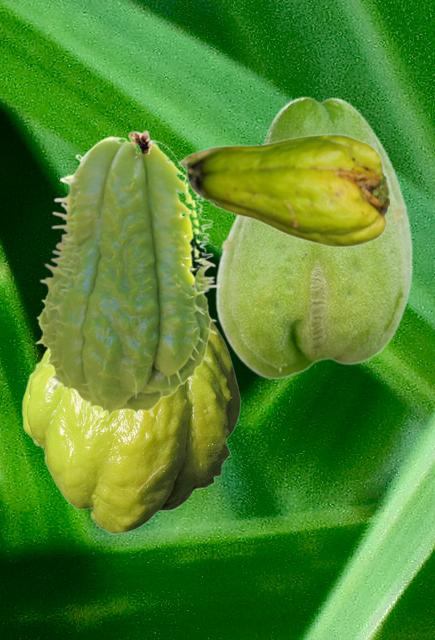sayote: (214, 95, 412, 378), (34, 129, 219, 421), (21, 323, 240, 533), (177, 133, 388, 247)
